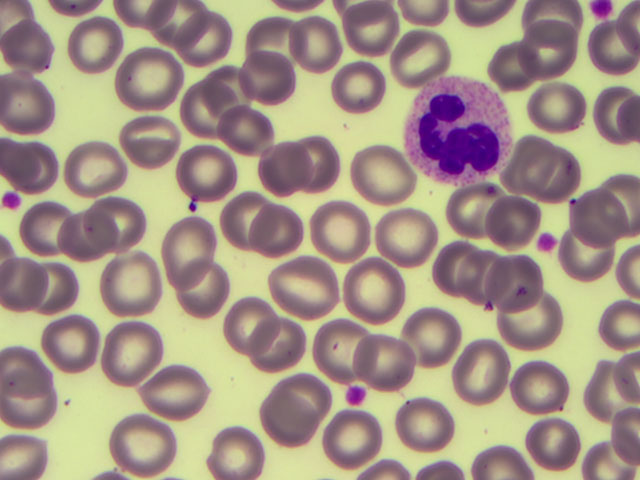Platelets: (590, 1, 615, 20), (344, 386, 367, 405), (2, 191, 21, 210), (537, 235, 557, 252)
RBC: (114, 50, 180, 115), (99, 250, 162, 318), (106, 415, 177, 474), (343, 262, 407, 326), (311, 321, 379, 381), (449, 339, 509, 406), (272, 260, 340, 317), (162, 214, 212, 290), (236, 46, 298, 106), (517, 20, 577, 81), (396, 307, 457, 367), (102, 322, 159, 384), (222, 296, 279, 356), (63, 142, 128, 194), (337, 3, 402, 55), (257, 393, 322, 445), (308, 203, 373, 255), (374, 212, 439, 264), (83, 195, 148, 247), (351, 147, 416, 199), (140, 366, 205, 418), (176, 82, 241, 134), (350, 335, 415, 387), (388, 28, 453, 80), (243, 206, 308, 258), (38, 317, 103, 369), (60, 18, 125, 70), (172, 145, 237, 197), (1, 71, 55, 133), (208, 425, 267, 480), (482, 194, 541, 249), (430, 242, 489, 297), (463, 249, 522, 304), (486, 257, 545, 312), (501, 290, 560, 345), (524, 415, 583, 470), (512, 357, 571, 412), (396, 397, 455, 452), (323, 412, 382, 467), (445, 182, 504, 237), (580, 360, 639, 415), (558, 224, 617, 279), (566, 190, 625, 245), (581, 361, 640, 416), (523, 78, 587, 128), (288, 19, 343, 74), (180, 10, 234, 65), (259, 141, 312, 197), (216, 106, 275, 156), (23, 202, 75, 258), (174, 261, 224, 319), (1, 375, 57, 426), (490, 38, 543, 91), (271, 373, 333, 418), (249, 317, 302, 369), (200, 64, 252, 117), (1, 15, 53, 68), (59, 209, 113, 260), (123, 119, 180, 167), (287, 135, 339, 187), (589, 23, 640, 76), (508, 135, 554, 193), (596, 295, 640, 355), (151, 1, 207, 48), (582, 435, 640, 480), (333, 60, 384, 111), (11, 139, 57, 194), (1, 257, 47, 311), (31, 263, 81, 312), (1, 346, 50, 396), (591, 91, 635, 145), (535, 148, 580, 199), (1, 432, 48, 480), (470, 443, 530, 480), (525, 1, 582, 39), (116, 1, 179, 30), (612, 409, 640, 465), (457, 1, 510, 28), (1, 137, 33, 181), (614, 92, 640, 146), (617, 3, 640, 54), (402, 1, 450, 24), (1, 1, 32, 27)
WBC: (407, 76, 511, 181)
